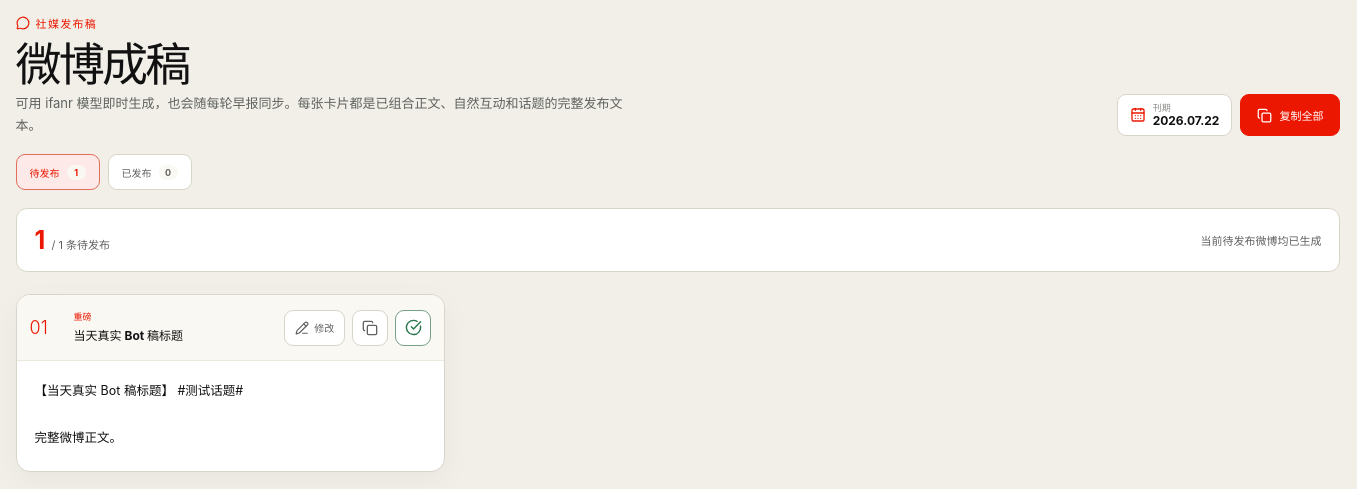
Test: App › hides legacy time hints and archives a Weibo card after marking it published
Expected: the text "【当天真实 Bot 稿标题】 #测试话题# 完整微博正文。" is shown, left=35, top=383, right=243, bottom=445
Expected: the button named "复制微博正文和配图" is empty, left=352, top=310, right=388, bottom=346
Click the button named "标记已发布": (413, 328) left=395, top=310, right=431, bottom=346
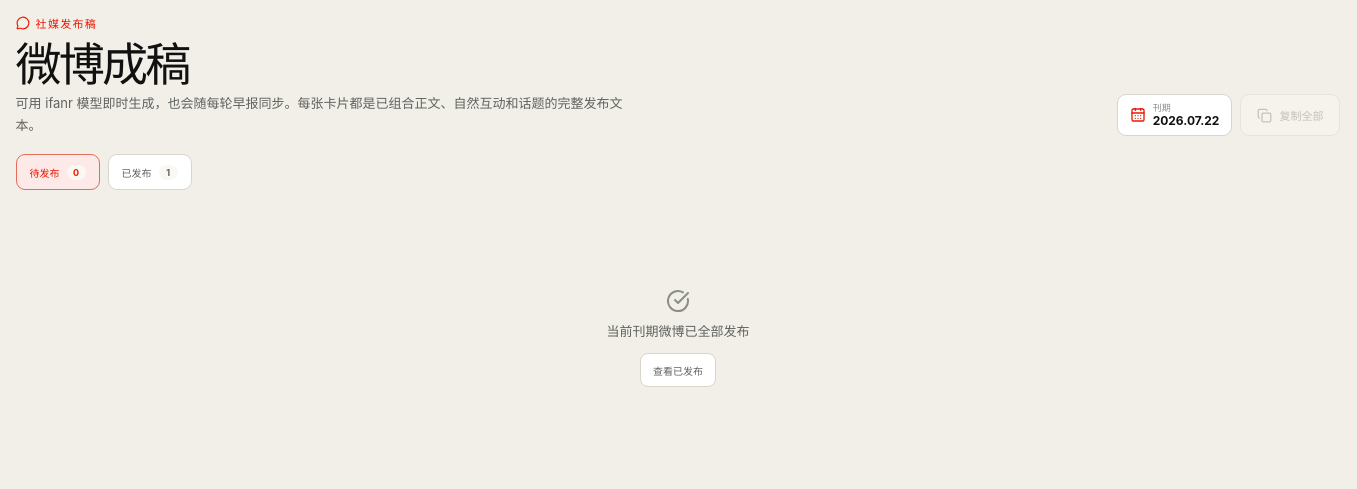
Expected: the text "完整微博正文。" is gone
Expected: the text "当前刊期微博已全部发布" is shown, left=606, top=321, right=750, bottom=340
Click the button "已发布 1": (150, 172) left=108, top=154, right=192, bottom=190
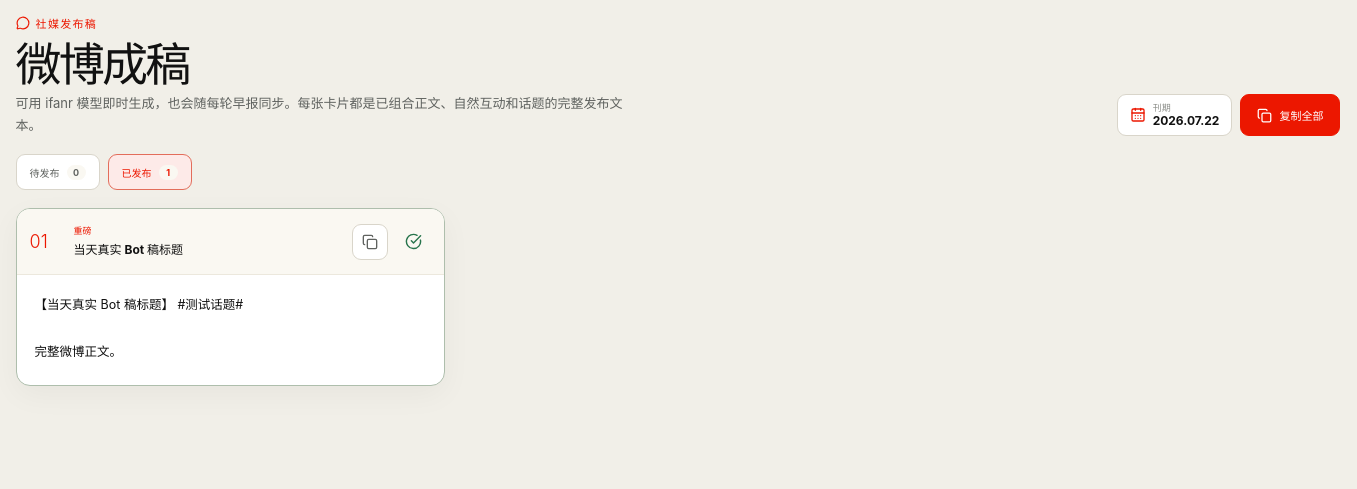
Expected: the text "【当天真实 Bot 稿标题】 #测试话题# 完整微博正文。" is shown, left=35, top=297, right=243, bottom=359
Expected: the button named "已发布" is disabled, left=395, top=224, right=431, bottom=260
